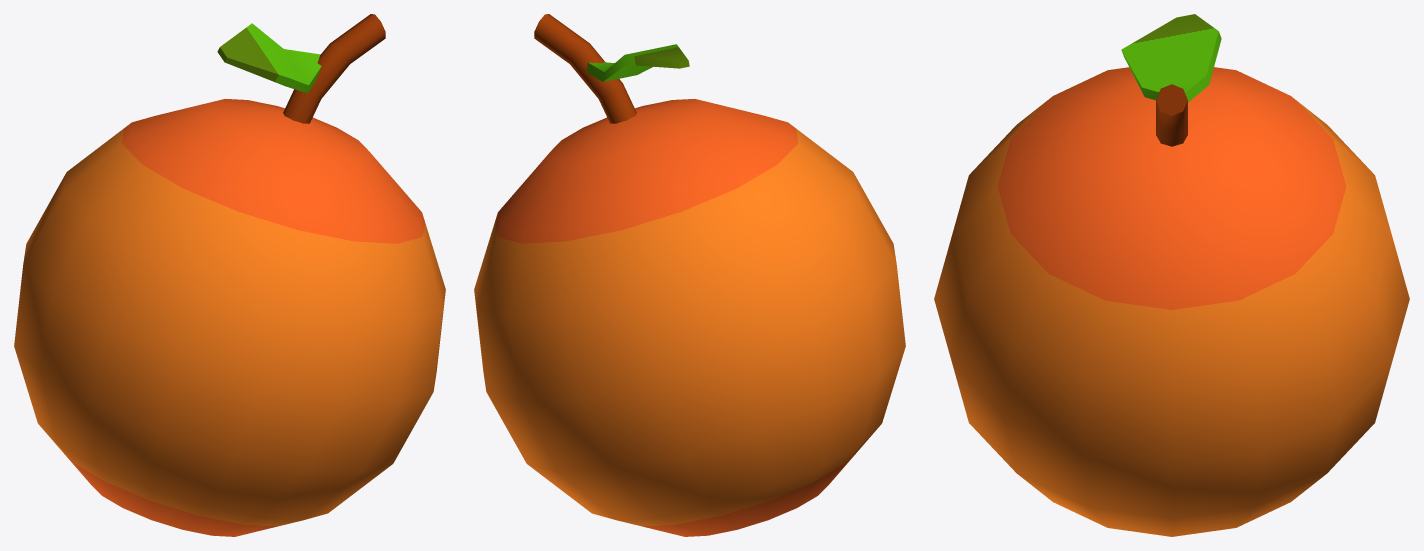
File: ITMC_Naranja.FBX
The picture shows the model from 3 angles, left to right: view 1: azimuth 30°, elevation 25°; view 2: azimuth 150°, elevation 25°; view 3: azimuth 270°, elevation 25°; orthographic projection. The views are drawn at different scales.
Visible parts, largest first — view 1: ITMC_Naranja; view 2: ITMC_Naranja; view 3: ITMC_Naranja.
Part boxes in pixels (left/top/right/bottom): ITMC_Naranja: left=14, top=14, right=445, bottom=536; ITMC_Naranja: left=474, top=14, right=905, bottom=536; ITMC_Naranja: left=934, top=14, right=1409, bottom=536.
Size of the model in its own units: 0.4865 by 0.572 by 0.4869.
